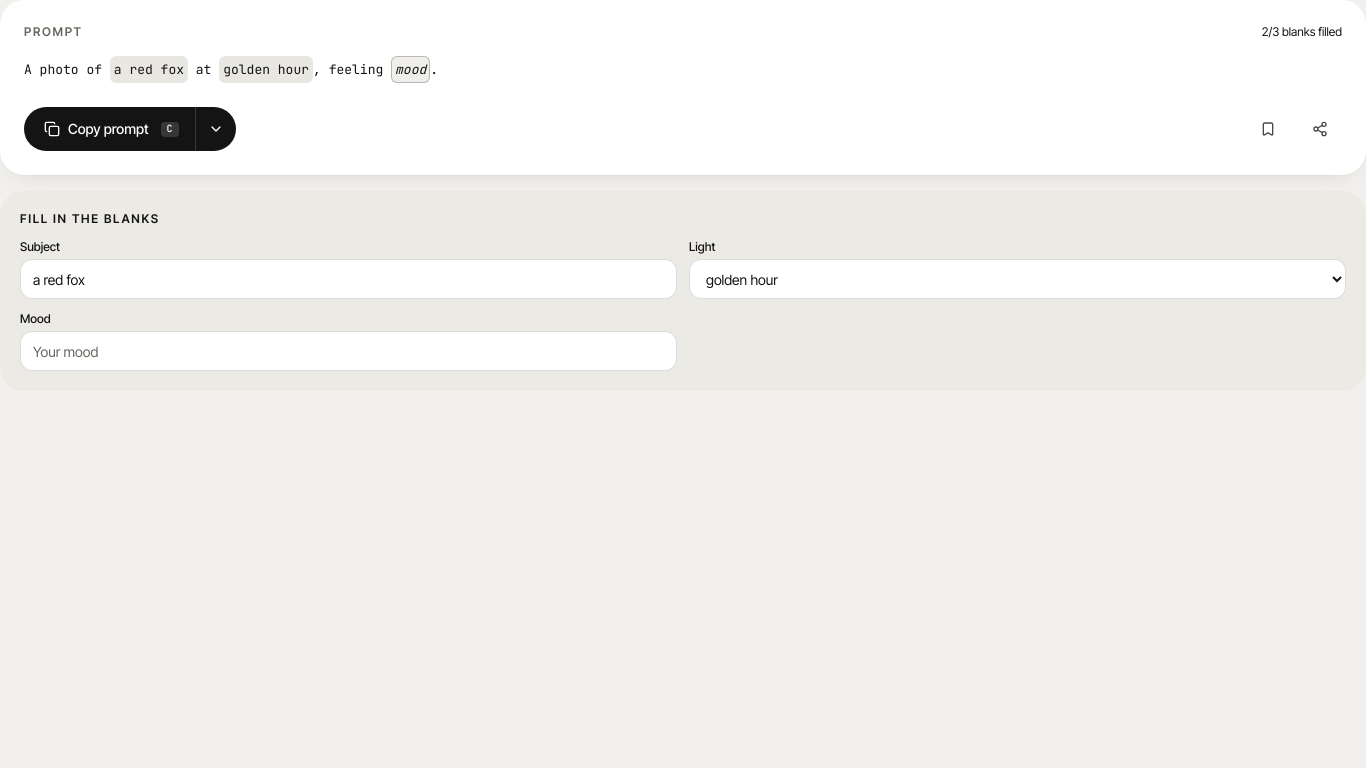
it: PromptWorkbench › keeps unfilled blanks visible in the copy and says how many are left
Click the button "Copy prompt C": (109,129) [24,107,195,151]
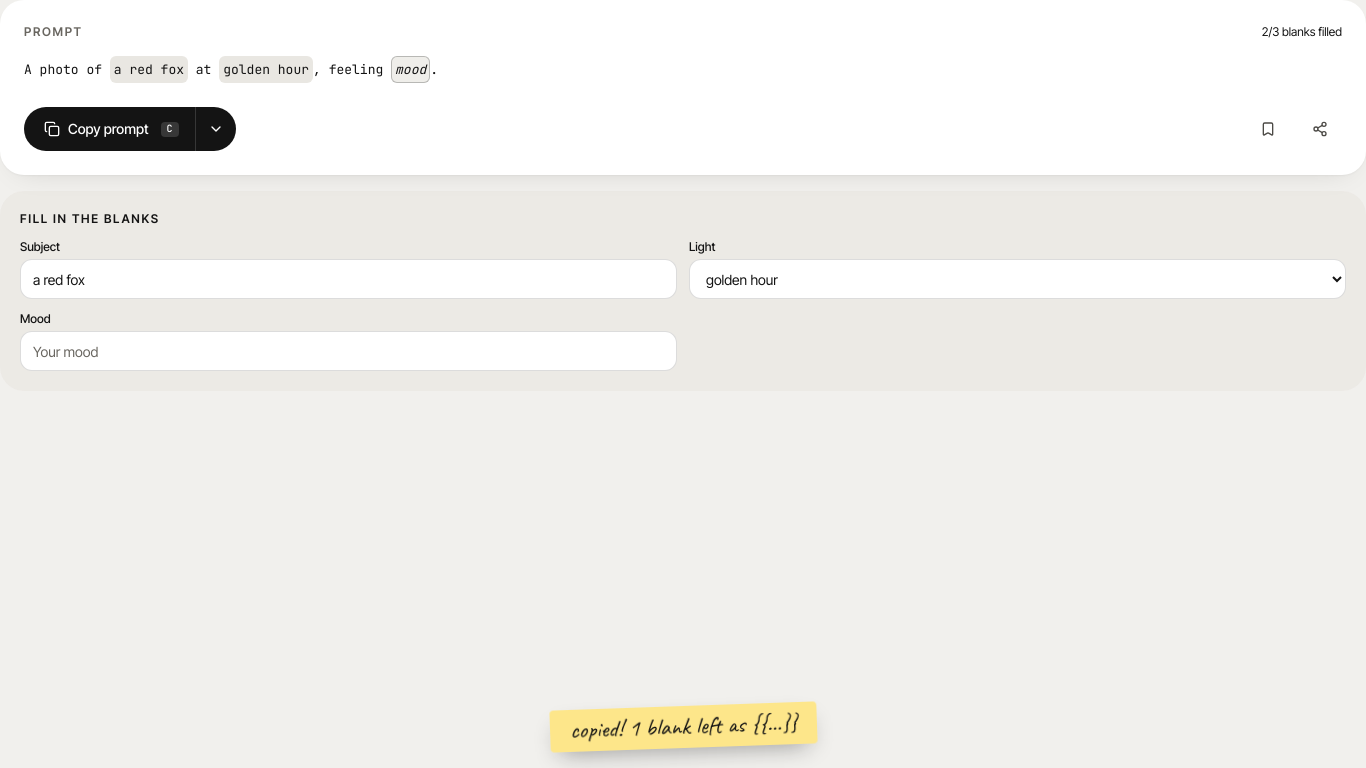
Result: the text "copied! 1 blank left as {{…}}" is shown at [549,701,817,753]
